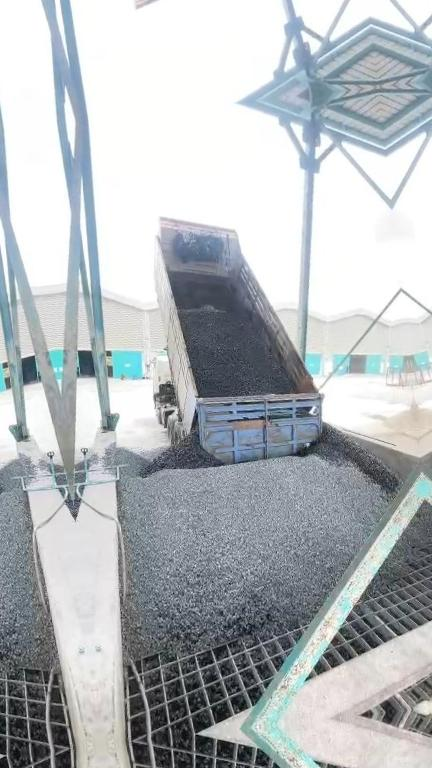gravel: (103, 424, 400, 657), (176, 283, 292, 396), (369, 504, 431, 593)
sand: (352, 406, 419, 455)
